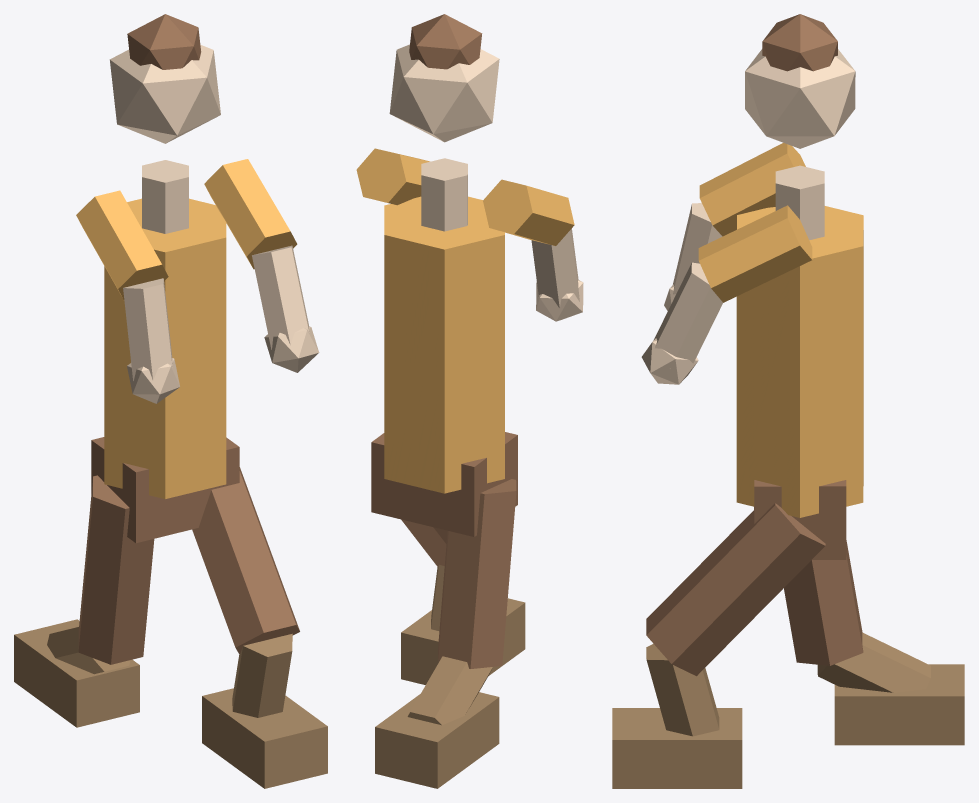
The model's file is pose_walk_05.glb.
The picture shows the model from 3 angles, left to right: view 1: azimuth 30°, elevation 25°; view 2: azimuth 150°, elevation 25°; view 3: azimuth 270°, elevation 25°; orthographic projection. The views are drawn at different scales.
Parts seen in each view (by area): view 1: pose; view 2: pose; view 3: pose.
Boxes of the visible parts, x1,y1,x2,y2 form: pose: [14, 14, 327, 788]; pose: [356, 14, 583, 788]; pose: [612, 14, 964, 788].
Size of the model in its own units: 0.3958 by 1.5 by 0.6509.
